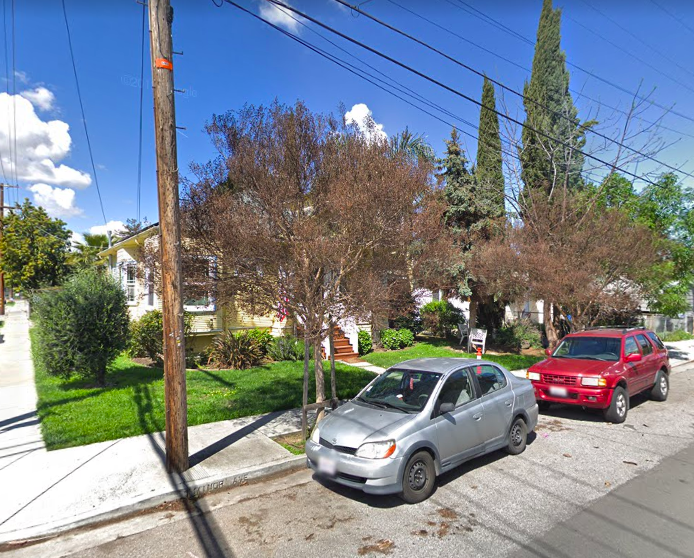tree: (180, 94, 460, 433)
